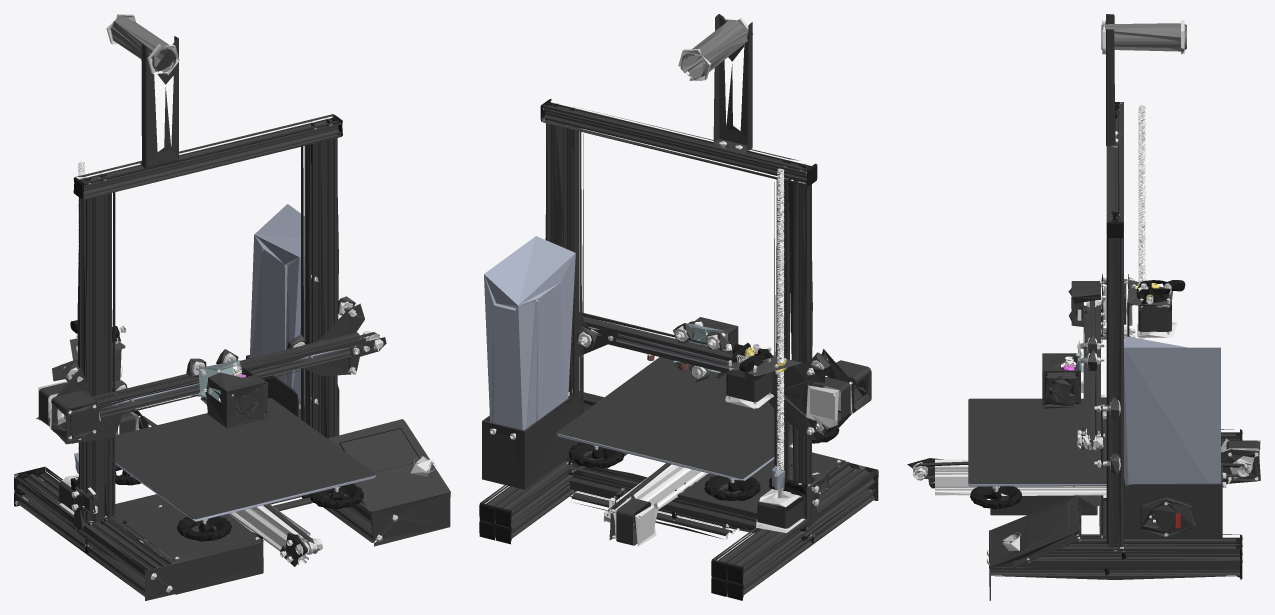
Rendered from ender3.glb.
The picture shows the model from 3 angles, left to right: view 1: azimuth 30°, elevation 25°; view 2: azimuth 150°, elevation 25°; view 3: azimuth 270°, elevation 25°; orthographic projection. The views are drawn at different scales.
Visible parts, largest first — view 1: part0, part1, part3, part5, part2, part11, part7, part4; view 2: part0, part1, part3, part5, part2, part7, part11; view 3: part0, part1, part5, part2, part3, part11, part7.
Part boxes in pixels (x1,y1,x2,y2): part0: (15, 36, 450, 600); part1: (14, 115, 435, 567); part3: (14, 114, 363, 553); part5: (36, 14, 433, 592); part2: (52, 162, 310, 564); part11: (111, 18, 176, 563); part7: (52, 296, 355, 443); part4: (191, 360, 241, 399); part0: (480, 14, 878, 595); part1: (484, 101, 872, 597); part3: (479, 99, 839, 600); part5: (490, 18, 852, 546); part2: (570, 169, 852, 539); part7: (576, 323, 830, 440); part11: (680, 20, 748, 79); part0: (907, 14, 1260, 600); part1: (968, 102, 1220, 572); part5: (912, 20, 1260, 564); part2: (935, 106, 1153, 537); part3: (970, 102, 1242, 579); part11: (991, 23, 1186, 500); part7: (1073, 274, 1172, 486).
Bounding box in the file's own units: 0.4394 × 0.6101 × 0.412.
